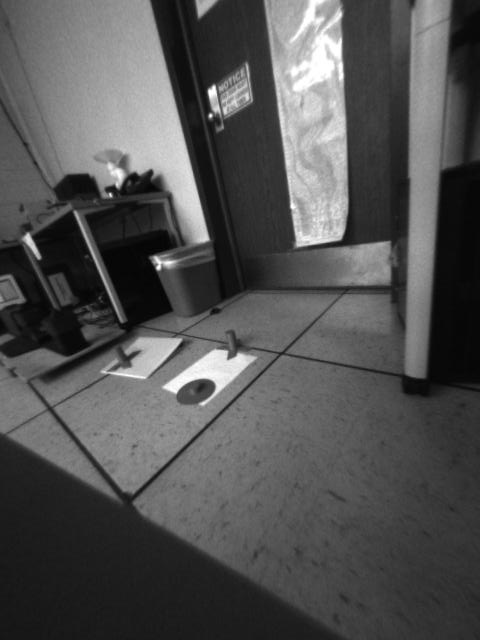X: (214, 328, 252, 359), (105, 343, 142, 372)
